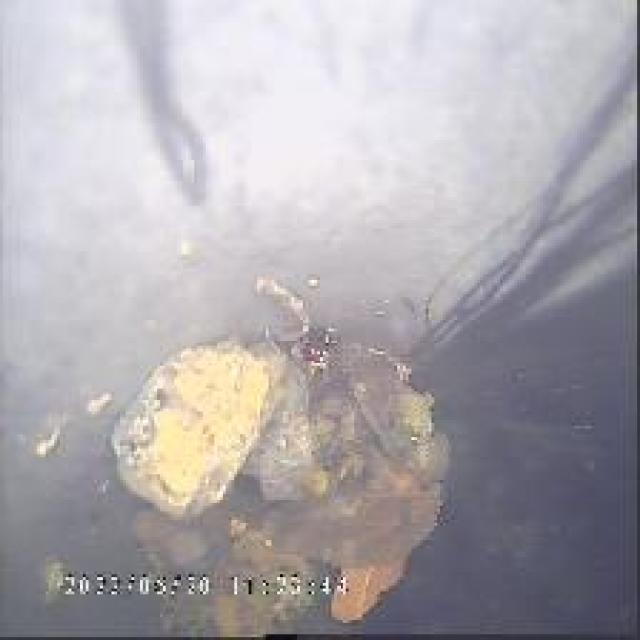stone: (103, 326, 491, 531)
